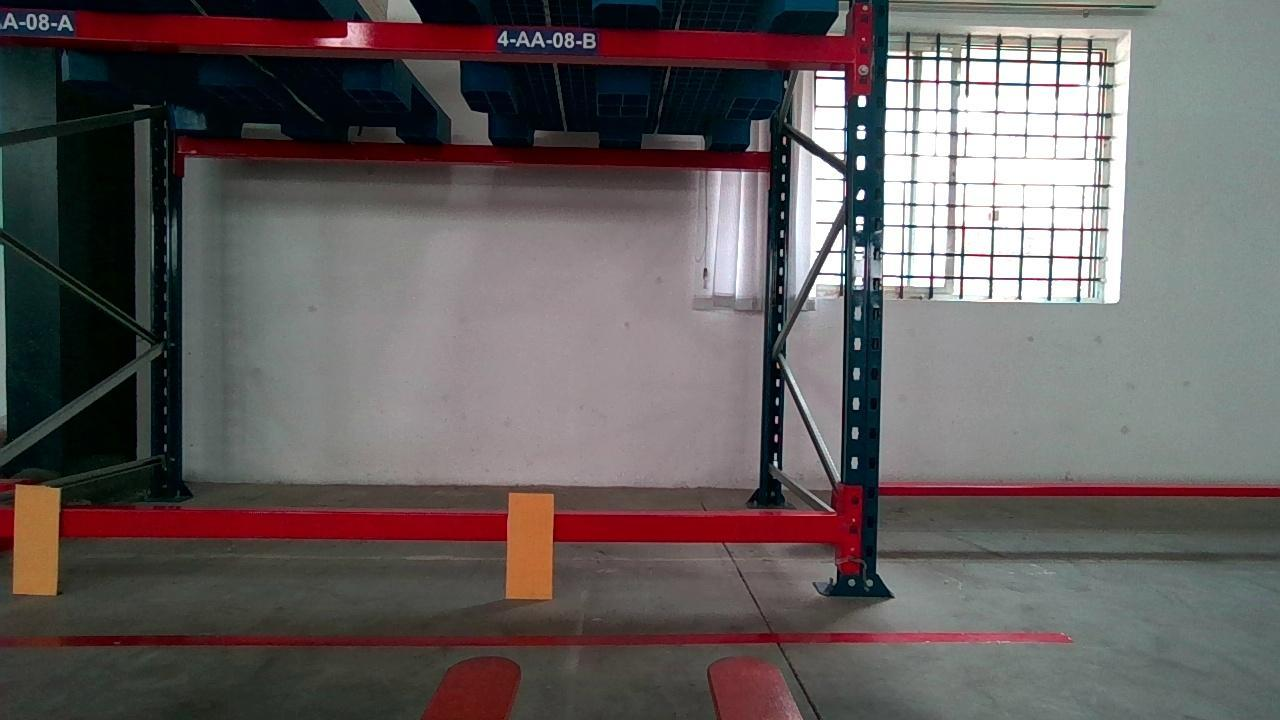h_rack: (2, 5, 866, 68), (60, 511, 839, 542)
orange_strip: (7, 486, 64, 600), (503, 488, 558, 604)
red_line: (0, 627, 1082, 652)
